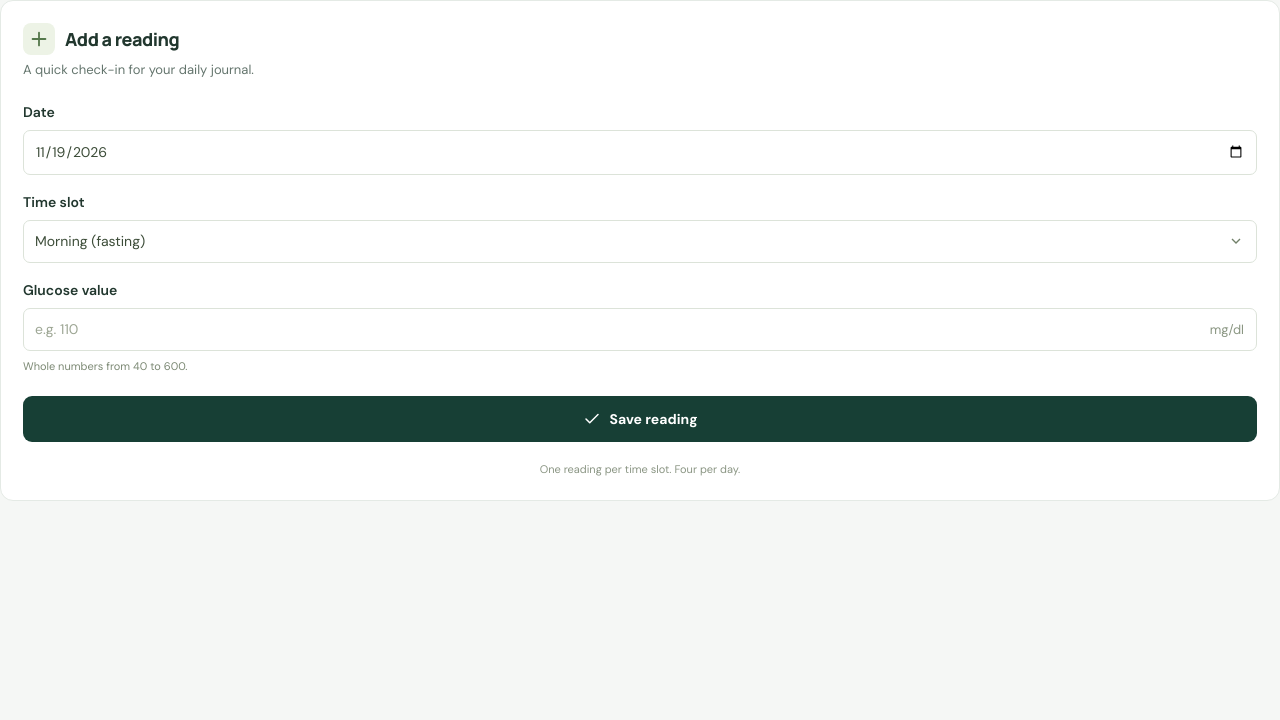
Scenario: Reading form › rejects invalid value 39
Step 1. Type "39" into the field labelled "Glucose value" → point(640, 329), box [23,308,1257,350]
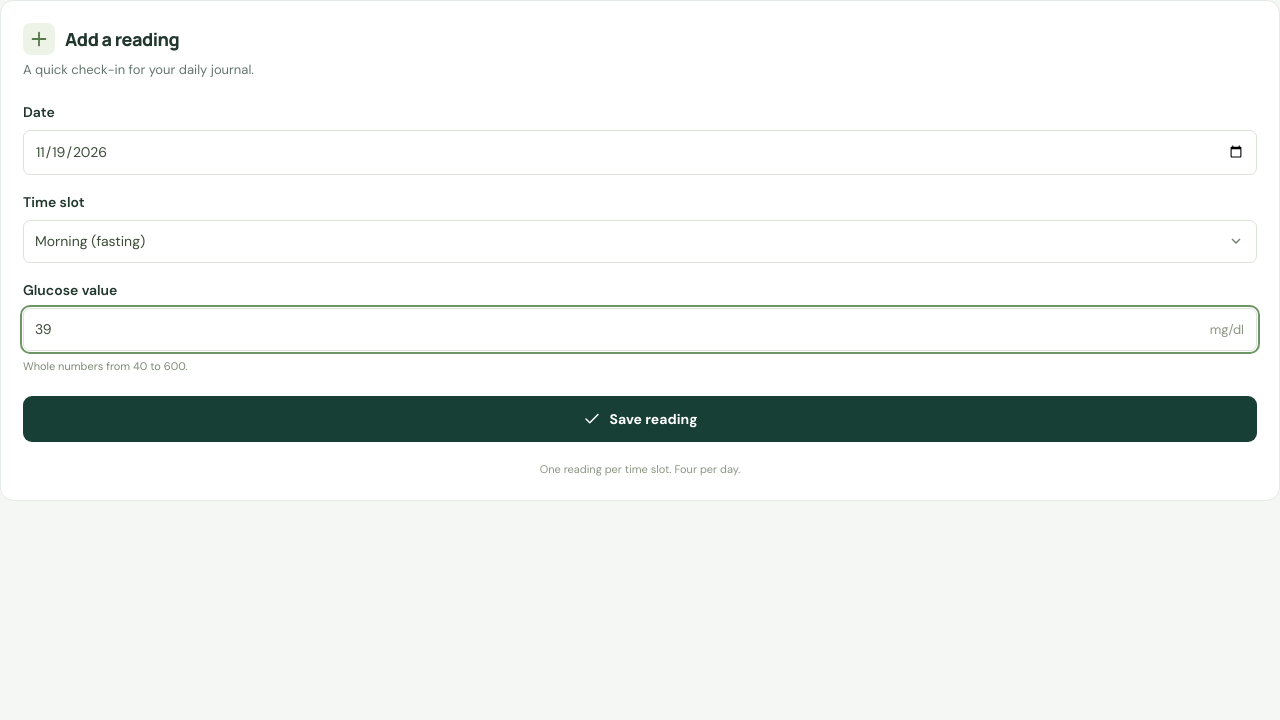
Step 2. Click the button "Save reading" → point(640, 419), box [23,396,1257,442]
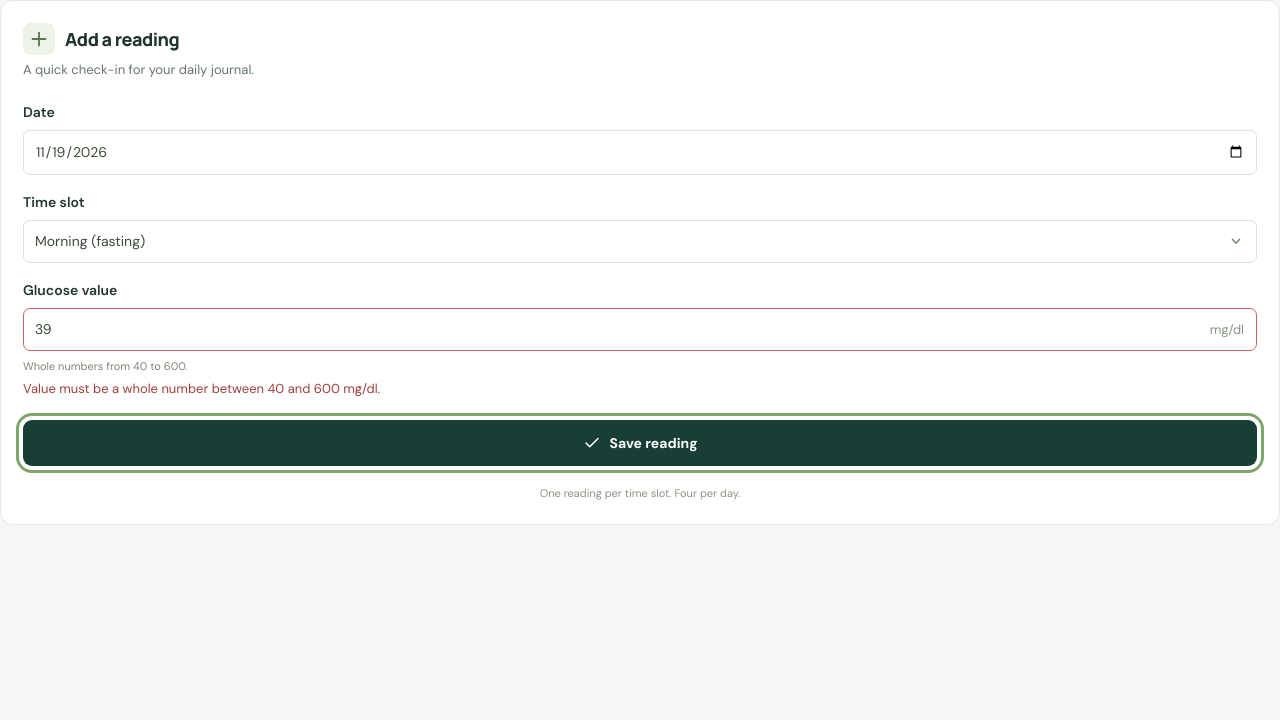
Expected: the message shows "whole number between 40 and 600", [23,380,380,397]
